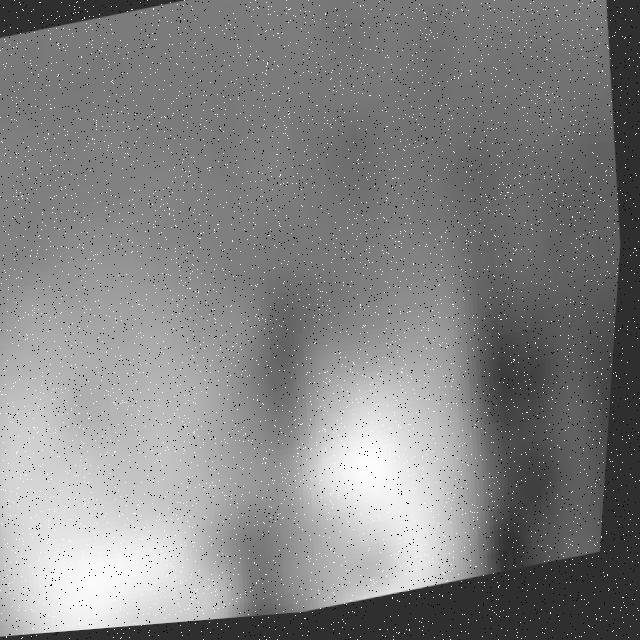person: (1, 150, 307, 640), (260, 214, 508, 622)
